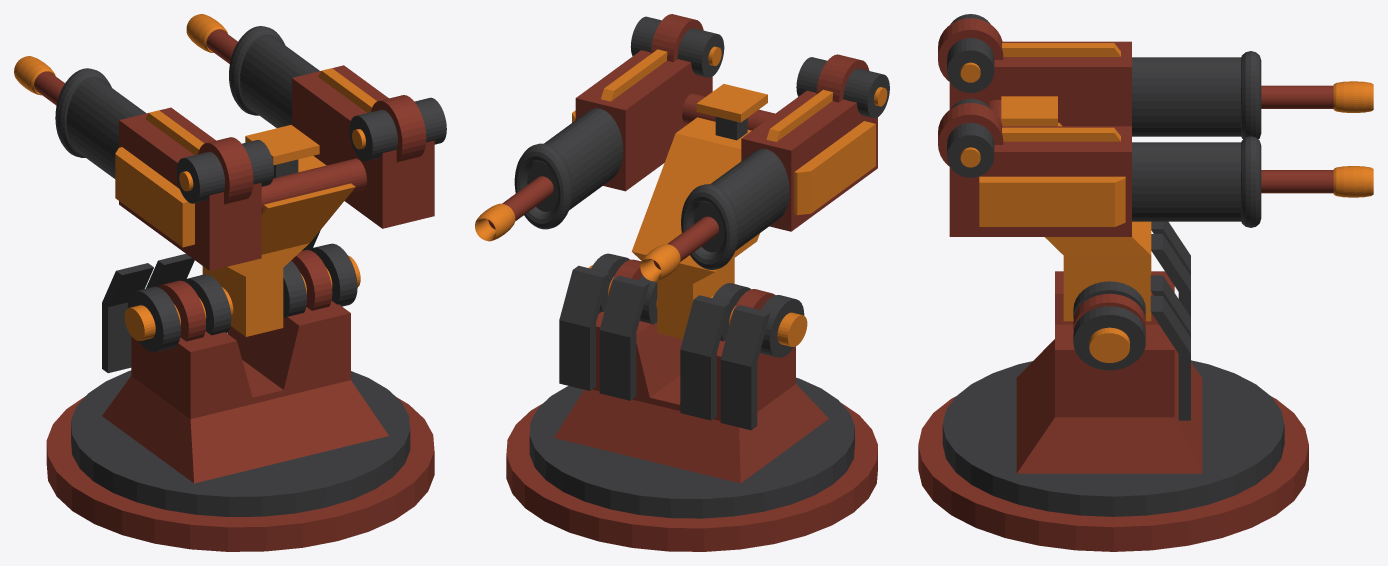
Rendered from Turm 5.fbx.
3 views of the same model, side by side, from view 1: azimuth 30°, elevation 25°; view 2: azimuth 150°, elevation 25°; view 3: azimuth 270°, elevation 25° (orthographic). The views are drawn at different scales.
Visible parts, largest first — view 1: Cube.007, Cylinder.018; view 2: Cube.007, Cylinder.018; view 3: Cube.007, Cylinder.018.
Part boxes in pixels (<box>): Cube.007: <box>14,14,446,516</box>; Cylinder.018: <box>46,396,434,551</box>; Cube.007: <box>475,14,889,518</box>; Cylinder.018: <box>506,403,877,551</box>; Cube.007: <box>938,14,1373,516</box>; Cylinder.018: <box>918,396,1308,551</box>.
Size of the model in its own units: 400 by 455 by 466.
